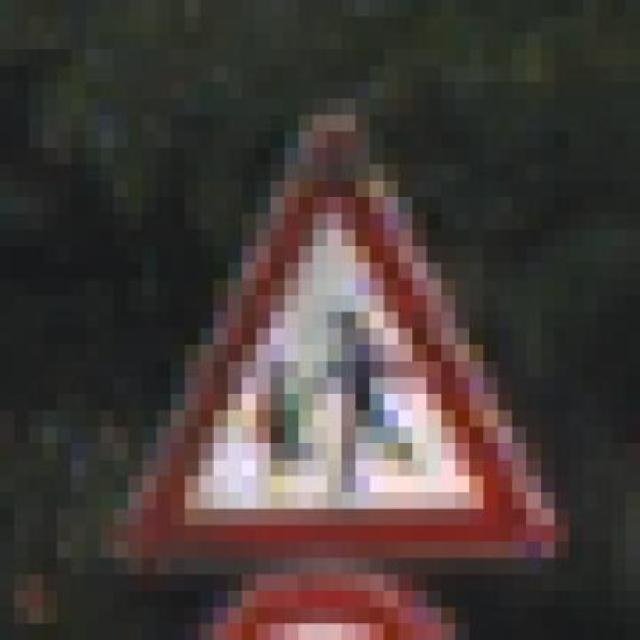Beware of children: (99, 82, 584, 575)
